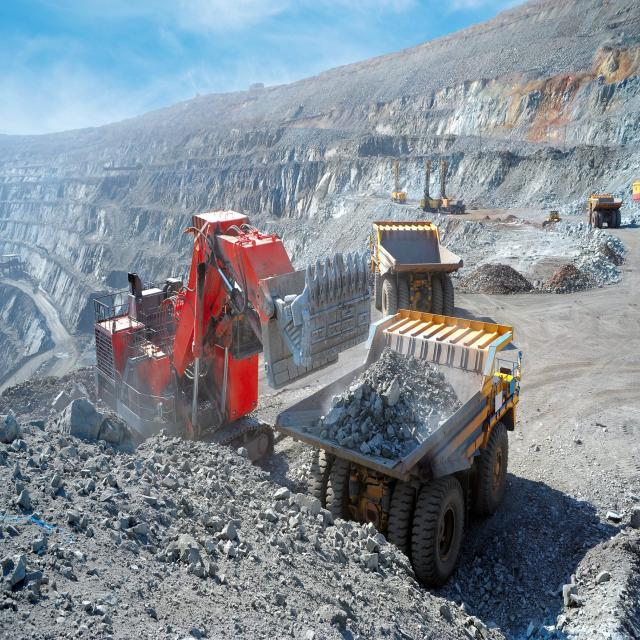dump_truck: (340, 308, 520, 586), (368, 210, 464, 309), (586, 190, 625, 231)
excavator: (61, 202, 365, 490)
